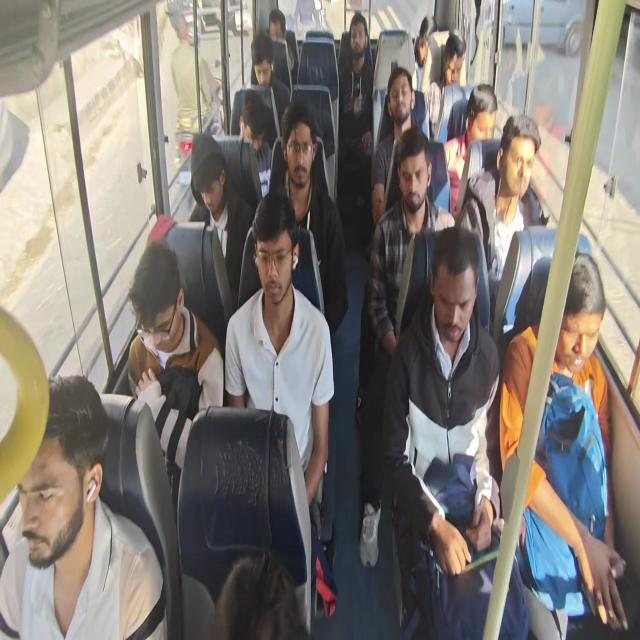person: (3, 4, 633, 637), (380, 226, 530, 638), (498, 251, 628, 636), (0, 373, 167, 639), (356, 126, 456, 567), (223, 188, 334, 531), (127, 240, 224, 515), (267, 100, 348, 334), (455, 113, 542, 330), (189, 132, 255, 312), (166, 0, 222, 168), (336, 12, 374, 252), (371, 66, 427, 226), (212, 549, 309, 639), (443, 83, 498, 213), (230, 32, 290, 149), (424, 33, 467, 142), (238, 88, 273, 198), (267, 8, 297, 95), (412, 16, 432, 92)
